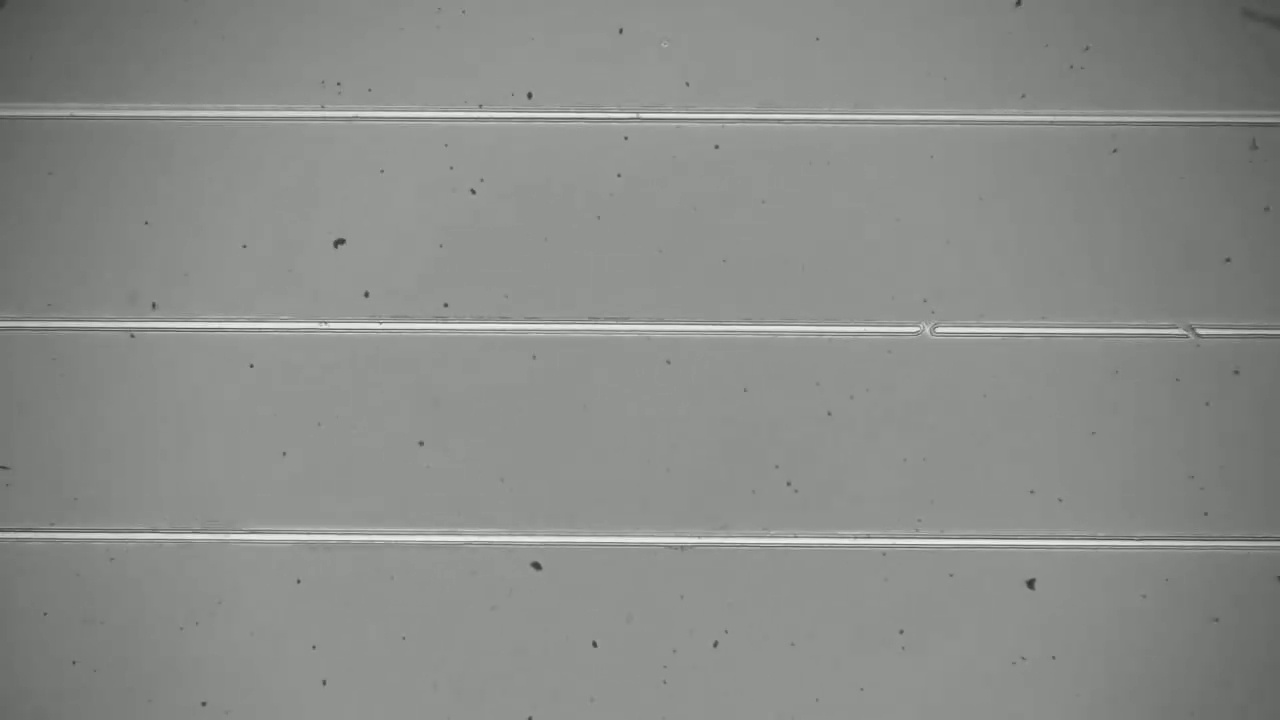open: (904, 310, 951, 350), (1164, 313, 1210, 348)
